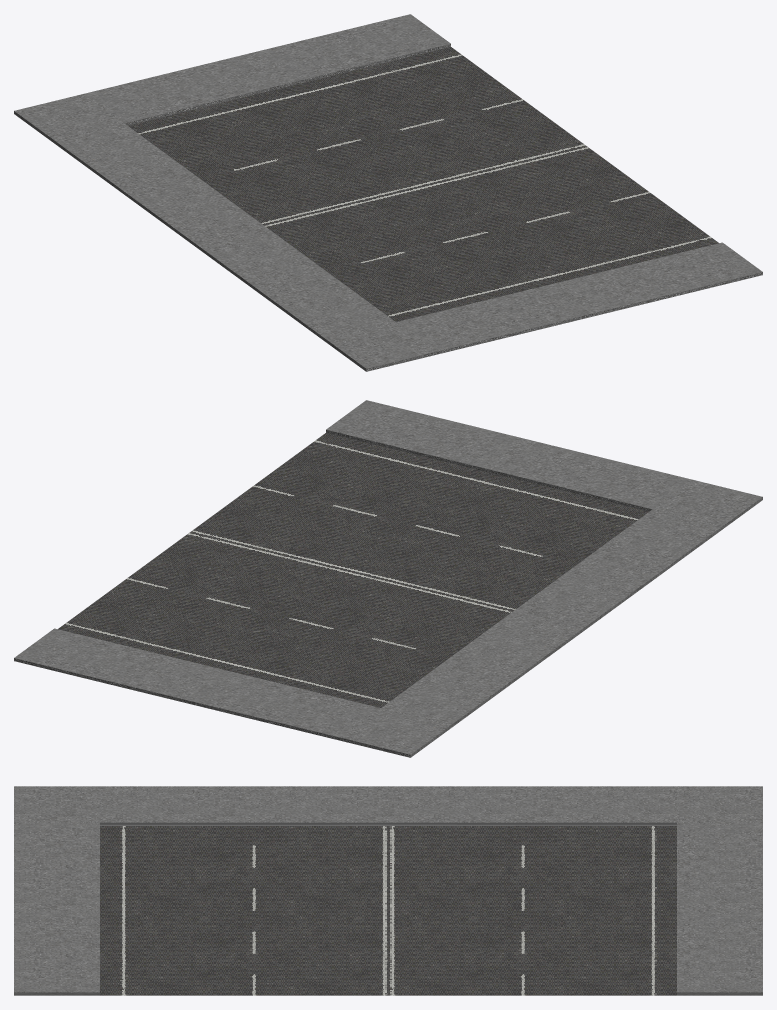
The model's file is Highway_End.glb.
The picture shows the model from 3 angles, top to bottom: view 1: azimuth 30°, elevation 25°; view 2: azimuth 150°, elevation 25°; view 3: azimuth 270°, elevation 25°; orthographic projection. The views are drawn at different scales.
Visible parts, largest first — view 1: Highway_End; view 2: Highway_End; view 3: Highway_End.
Boxes of the visible parts, left/top/right/bottom form: Highway_End: left=14, top=14, right=762, bottom=371; Highway_End: left=14, top=400, right=762, bottom=757; Highway_End: left=14, top=786, right=762, bottom=995.
Size of the model in its own units: 15.79 by 0.1182 by 24.29.
Materials: 2 (2 with a texture image).
